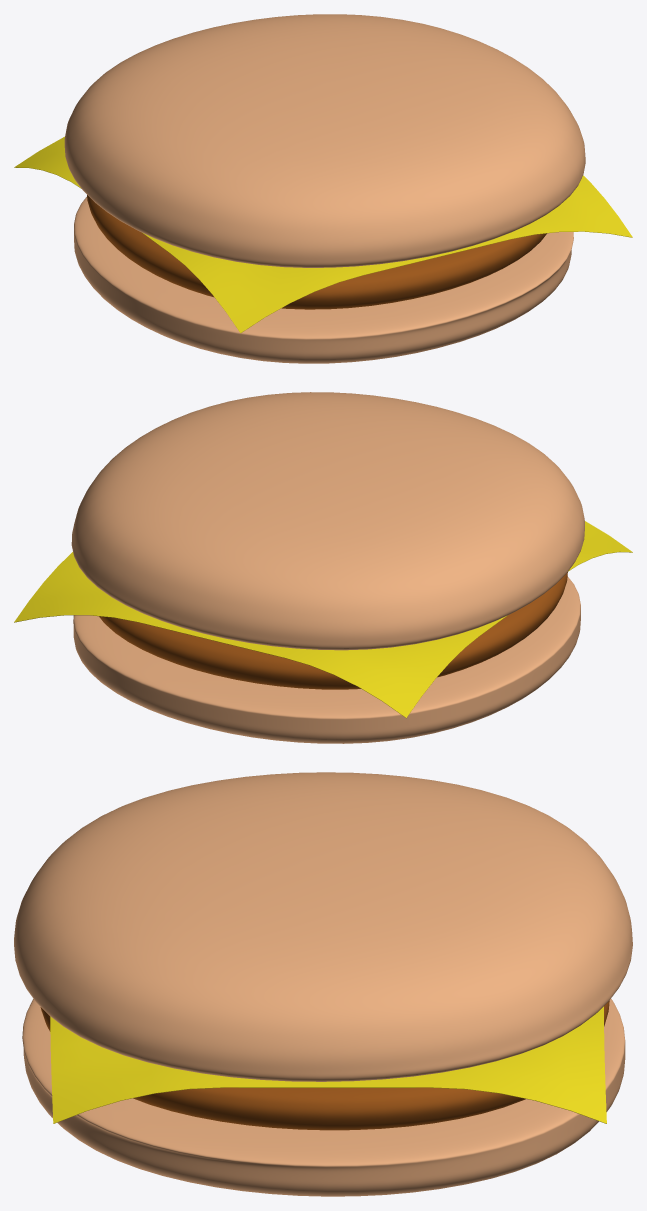
The model's file is hamburger.glb.
3 views of the same model, one above another, from view 1: azimuth 30°, elevation 25°; view 2: azimuth 150°, elevation 25°; view 3: azimuth 270°, elevation 25° (orthographic). The views are drawn at different scales.
Visible parts, largest first — view 1: Cube.002, Cube, Plane, Cube.001; view 2: Cube.002, Cube, Plane, Cube.001; view 3: Cube.002, Cube, Plane, Cube.001.
Boxes of the visible parts, x1=… form: Cube.002: x1=64, y1=14, x2=585, y2=267; Cube: x1=74, y1=197, x2=573, y2=363; Plane: x1=14, y1=136, x2=632, y2=333; Cube.001: x1=87, y1=195, x2=546, y2=309; Cube.002: x1=71, y1=392, x2=584, y2=650; Cube: x1=73, y1=576, x2=580, y2=743; Plane: x1=14, y1=521, x2=632, y2=718; Cube.001: x1=99, y1=572, x2=567, y2=689; Cube.002: x1=14, y1=772, x2=632, y2=1081; Cube: x1=22, y1=999, x2=625, y2=1196; Plane: x1=50, y1=1006, x2=606, y2=1123; Cube.001: x1=40, y1=1000, x2=609, y2=1130.
Size of the model in its own units: 0.9395 by 0.4083 by 0.9395.
